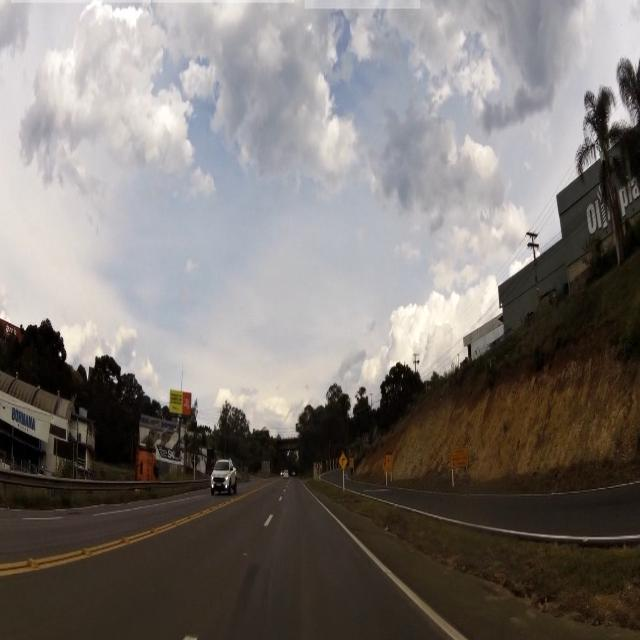A-1b: (338, 453, 348, 469)
